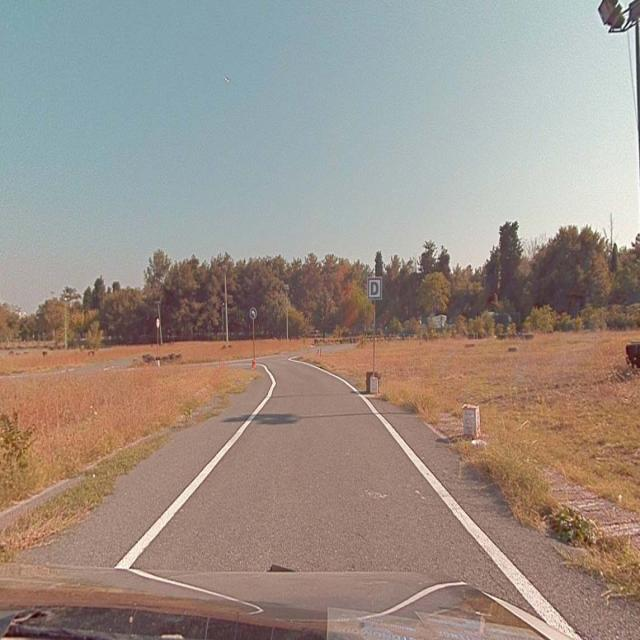durak: (368, 278, 382, 300)
sol: (250, 308, 256, 318)
